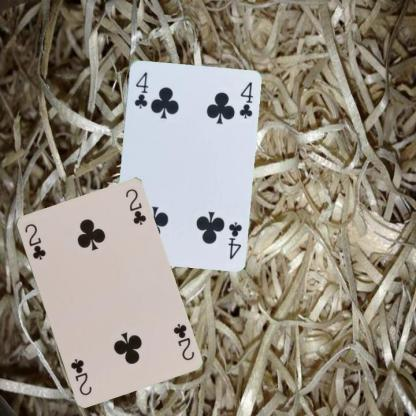2c: (170, 320, 196, 362), (21, 220, 47, 260)
4c: (226, 219, 244, 261), (132, 69, 150, 110)
